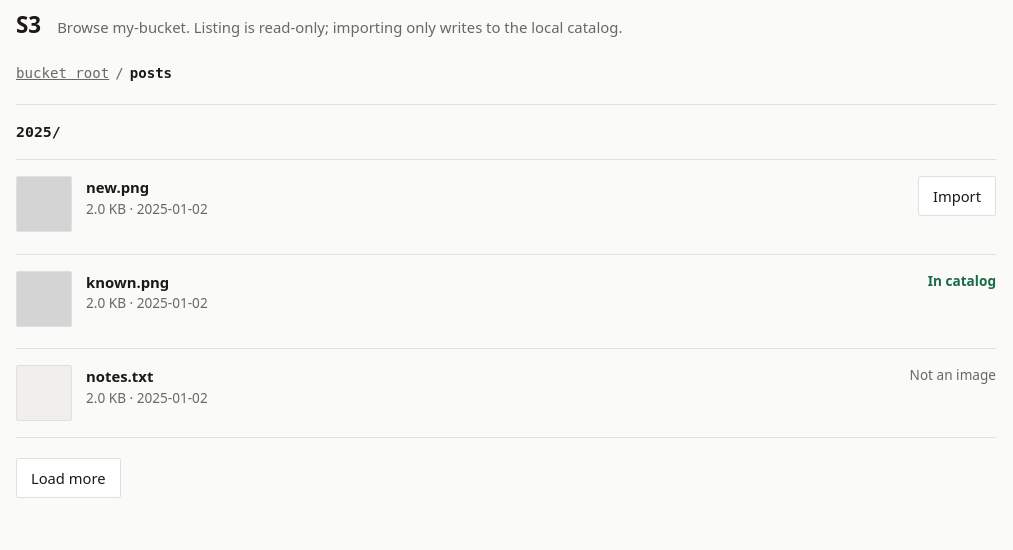
Test: S3Browser › loads the next page and appends it
This screenshot has width=1013, height=550.
What coordinates should you click on to do the following:
click the button "Load more"
I would click on:
 (68, 478)
Its box is [16,458,120,498].
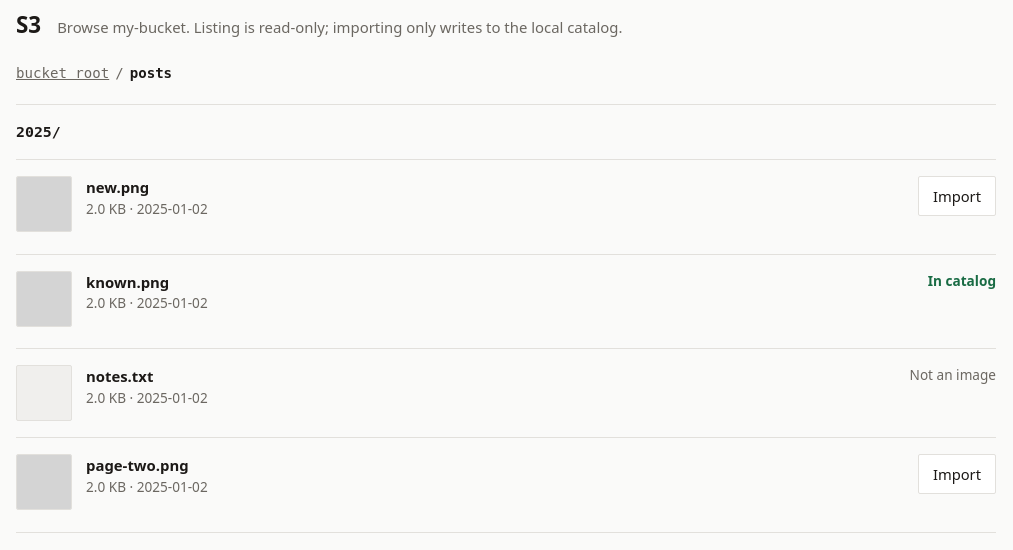
Expected: the text "new.png" is shown, [86,177,149,197]
Now the text "page-two.png" is shown, box [86,455,189,475]
Now the button "Load more" is gone
